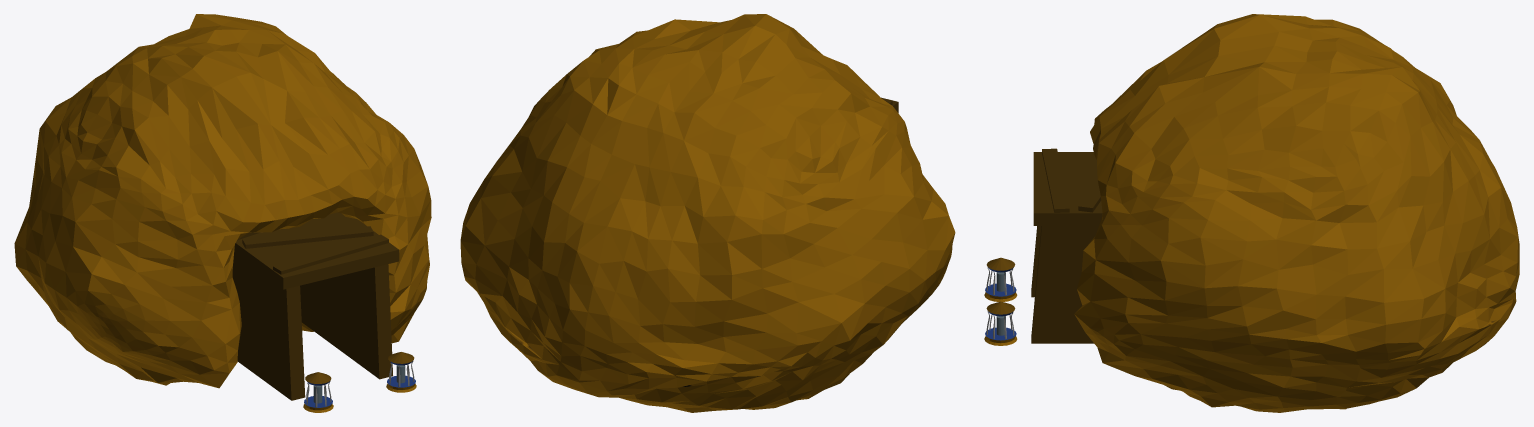
Rendered from MInaCobre.fbx.
3 renders of one model, left to right at view 1: azimuth 30°, elevation 25°; view 2: azimuth 150°, elevation 25°; view 3: azimuth 270°, elevation 25°, orthographic. The views are drawn at different scales.
Visible parts, largest first — view 1: Circle.002; view 2: Circle.002; view 3: Circle.002.
Part boxes in pixels (box(x1,y1,x2,y2)): Circle.002: box(14, 14, 431, 412); Circle.002: box(460, 14, 955, 412); Circle.002: box(984, 14, 1519, 412).
Size of the model in its own units: 1190 by 943 by 1405.
1 material, 1 textured.
